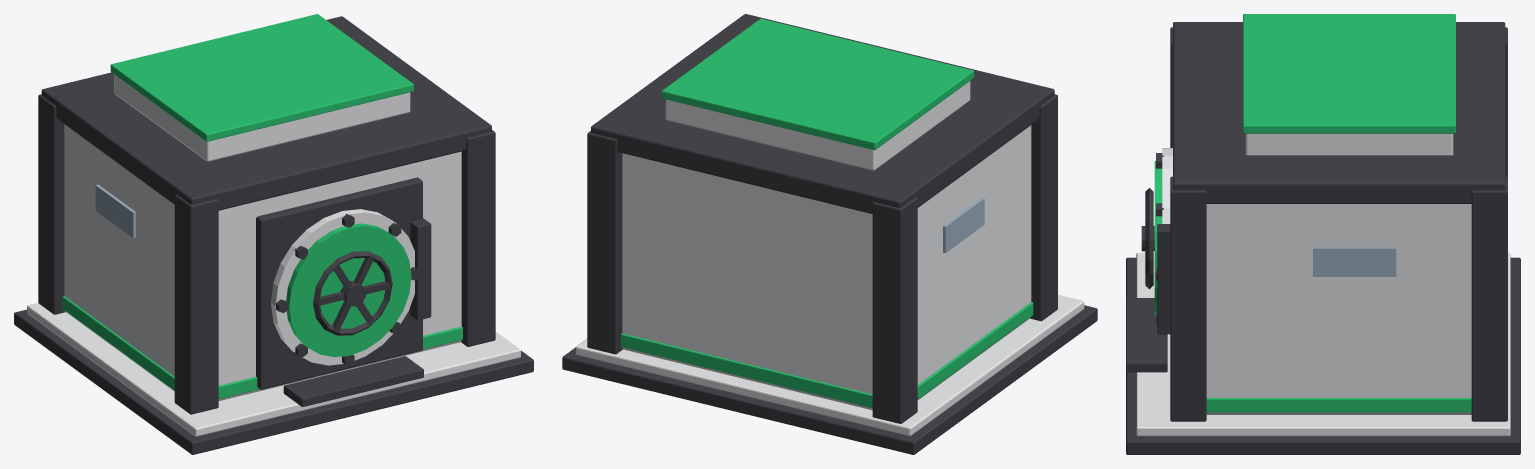
Rendered from vault.glb.
3 renders of one model, left to right at view 1: azimuth 30°, elevation 25°; view 2: azimuth 150°, elevation 25°; view 3: azimuth 270°, elevation 25°, orthographic. The views are drawn at different scales.
Parts seen in each view (by area): view 1: strongroom, turn_wheel; view 2: strongroom; view 3: strongroom, turn_wheel.
Part boxes in pixels (bbox=[...]): strongroom: bbox=[14, 14, 533, 454]; turn_wheel: bbox=[313, 251, 392, 335]; strongroom: bbox=[562, 14, 1097, 454]; strongroom: bbox=[1126, 14, 1520, 454]; turn_wheel: bbox=[1141, 188, 1154, 289].
Size of the model in its own units: 8.4 by 6.24 by 7.6.
